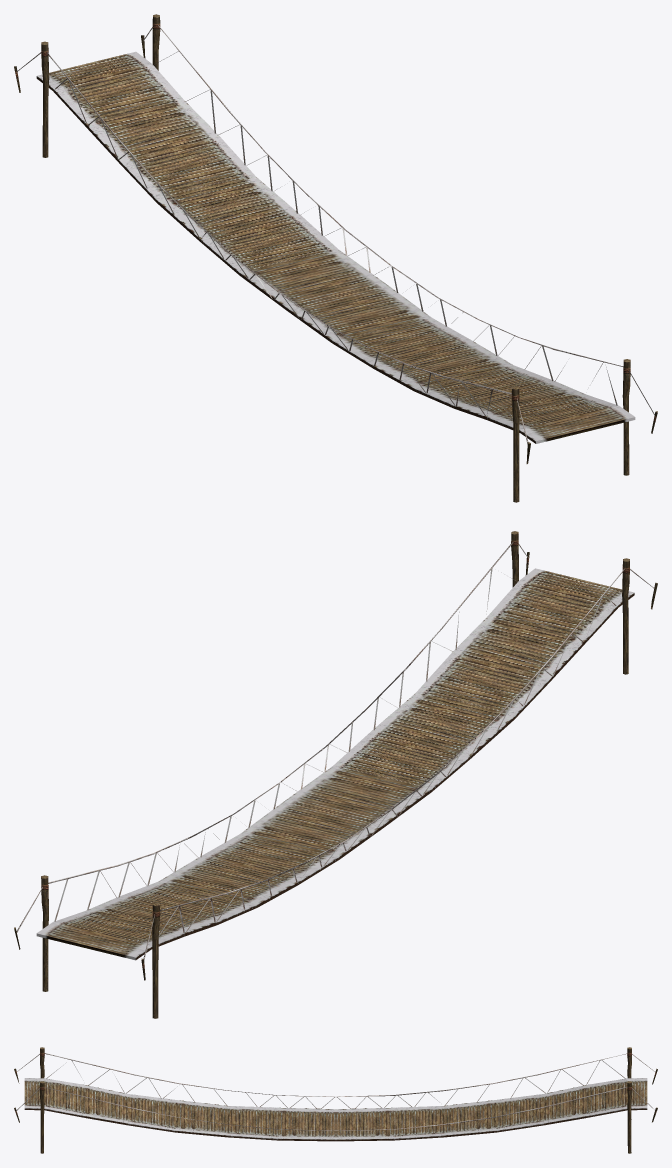
The model's file is general_obj_suspension bridge01_lod_01.glb.
3 renders of one model, top to bottom at view 1: azimuth 30°, elevation 25°; view 2: azimuth 150°, elevation 25°; view 3: azimuth 270°, elevation 25°, orthographic. The views are drawn at different scales.
Visible parts, largest first — view 1: Sphere01; view 2: Sphere01; view 3: Sphere01.
Part boxes in pixels (<box>): Sphere01: <box>14,14,657,502</box>; Sphere01: <box>14,531,657,1018</box>; Sphere01: <box>14,1047,657,1153</box>.
Bounding box in the file's own units: 10.46 × 8.8 × 71.77.
1 material, 1 textured.
